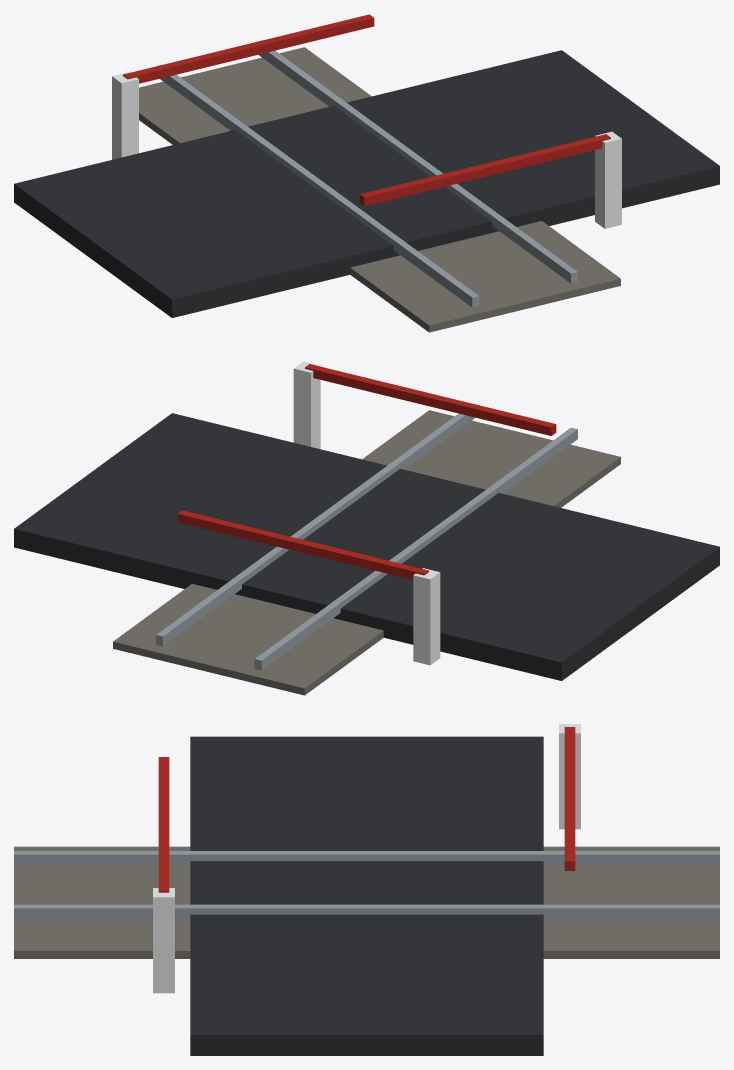
File: road_rail_viii_crossing_lod2.glb
3 renders of one model, top to bottom at view 1: azimuth 30°, elevation 25°; view 2: azimuth 150°, elevation 25°; view 3: azimuth 270°, elevation 25°, orthographic. The views are drawn at different scales.
Visible parts, largest first — view 1: body, barrier_1, barrier_0; view 2: body, barrier_0, barrier_1; view 3: body, barrier_1, barrier_0.
Boxes of the visible parts, box(x1,y1,x2,y2) form: body: box(14, 40, 719, 332); barrier_1: box(359, 131, 621, 228); barrier_0: box(112, 14, 374, 159); body: box(14, 403, 719, 695); barrier_0: box(177, 510, 440, 665); barrier_1: box(293, 361, 556, 449); body: box(14, 736, 719, 1055); barrier_1: box(153, 757, 174, 993); barrier_0: box(559, 724, 580, 870).
Bounding box in the file's own units: 8 × 1.22 × 8.
